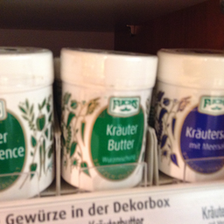spices: (56, 46, 158, 191), (155, 46, 224, 178), (1, 46, 55, 201)
